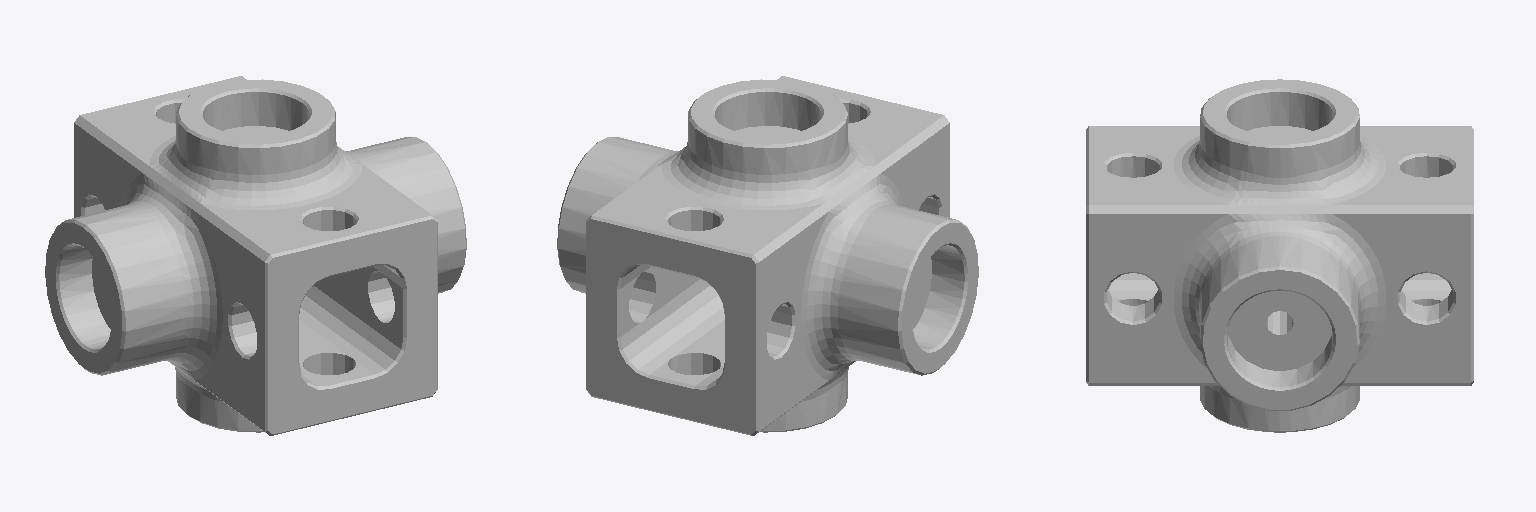
File: left_foot_pitch_link.obj
The picture shows the model from 3 angles: view 1: azimuth 30°, elevation 25°; view 2: azimuth 150°, elevation 25°; view 3: azimuth 270°, elevation 25°; orthographic projection.
Parts seen in each view (by area): view 1: left_foot_pitch_link; view 2: left_foot_pitch_link; view 3: left_foot_pitch_link.
Part boxes in pixels (x1,y1,x2,y2): left_foot_pitch_link: (45,76,466,435); left_foot_pitch_link: (557,76,978,435); left_foot_pitch_link: (1086,79,1473,432).
Size of the model in its own units: 0.0298 by 0.0238 by 0.029.